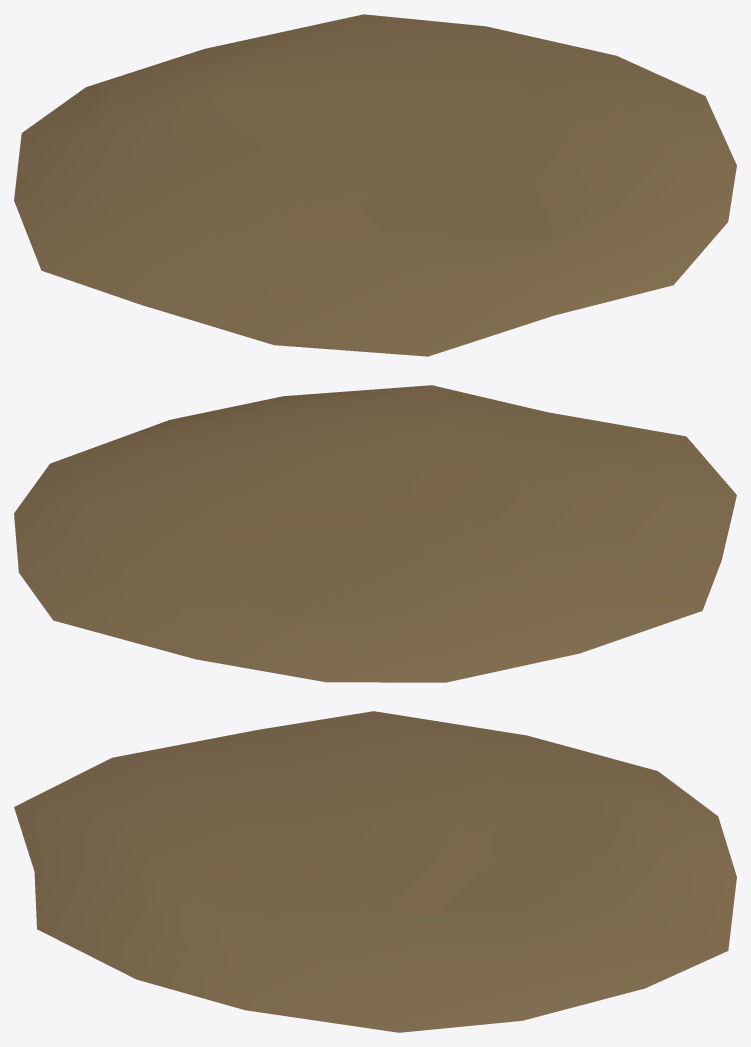
The model's file is Puddle2.fbx.
The picture shows the model from 3 angles, top to bottom: view 1: azimuth 30°, elevation 25°; view 2: azimuth 150°, elevation 25°; view 3: azimuth 270°, elevation 25°; orthographic projection. The views are drawn at different scales.
Visible parts, largest first — view 1: Puddle2; view 2: Puddle2; view 3: Puddle2.
Part boxes in pixels (bbox=[...]): Puddle2: bbox=[14, 14, 736, 356]; Puddle2: bbox=[14, 385, 736, 682]; Puddle2: bbox=[14, 711, 736, 1032].
Size of the model in its own units: 8.65 by 0.2462 by 8.22.
